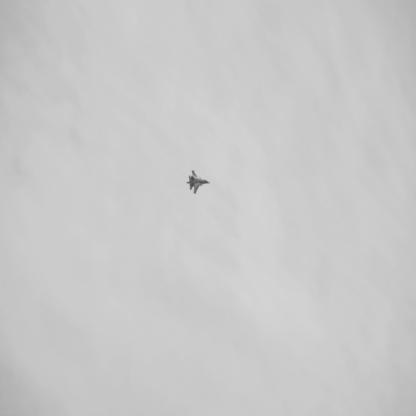Su34: (187, 171, 212, 195)
